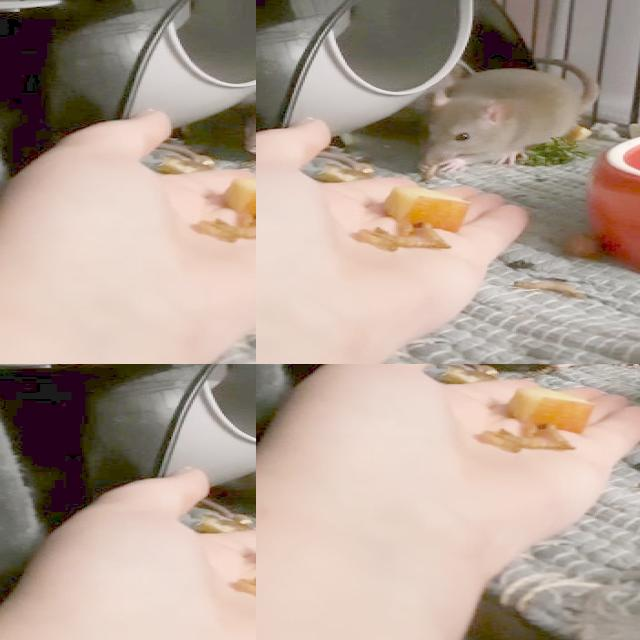rat: (408, 64, 582, 173), (225, 453, 256, 530)
